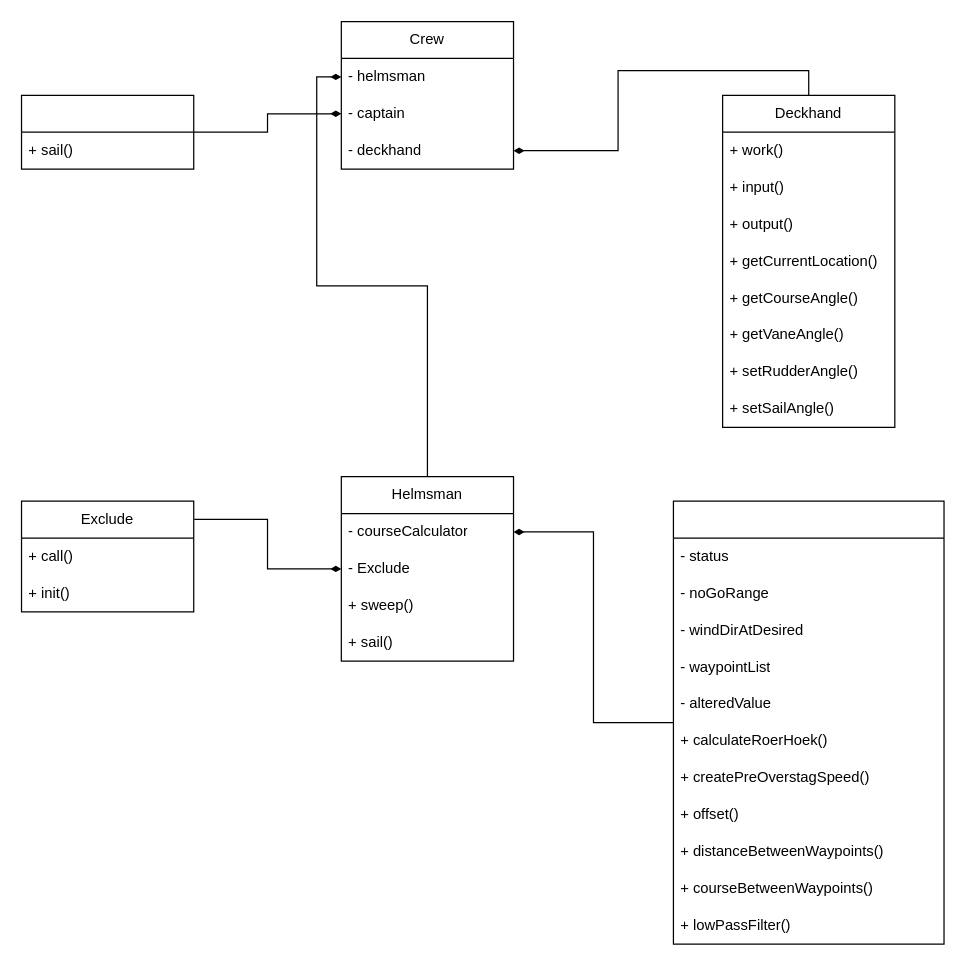
This 966x966 diagram has some shape labels left out. Each missing label, with the box of its shape:
Captain: (20, 94, 194, 169)
CourseCalculator: (672, 500, 944, 944)
